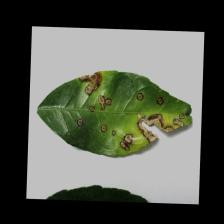canker: (68, 68, 192, 152)
